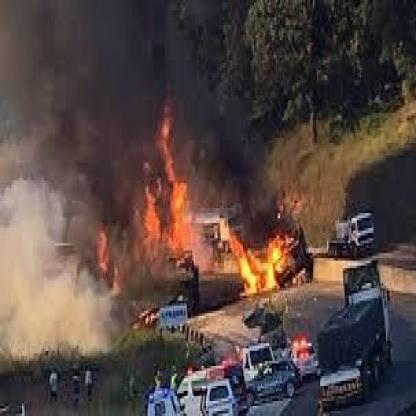fire: (138, 109, 191, 257), (221, 219, 305, 296), (92, 219, 124, 285)
smoke: (26, 6, 258, 151)
